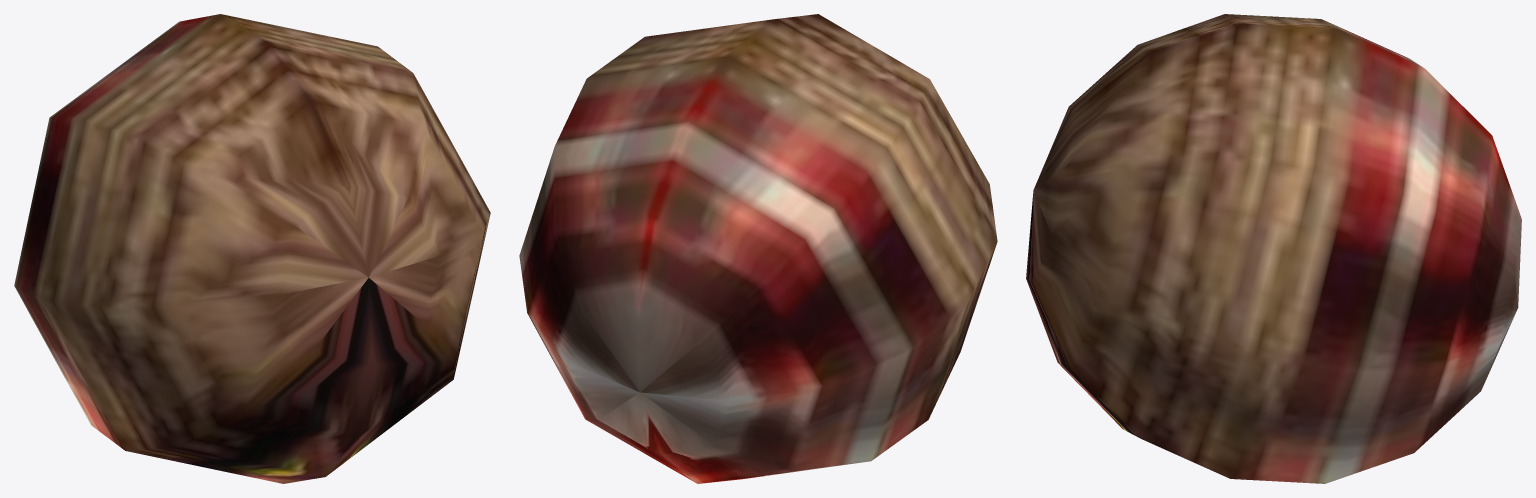
The model's file is wand_s__2_angel_stick_angel_stick_fire.glb.
3 renders of one model, left to right at view 1: azimuth 30°, elevation 25°; view 2: azimuth 150°, elevation 25°; view 3: azimuth 270°, elevation 25°, orthographic. The views are drawn at different scales.
Bounding box in the file's own units: 0.1317 × 0.1306 × 0.1304.
Materials: 1 (1 with a texture image).
